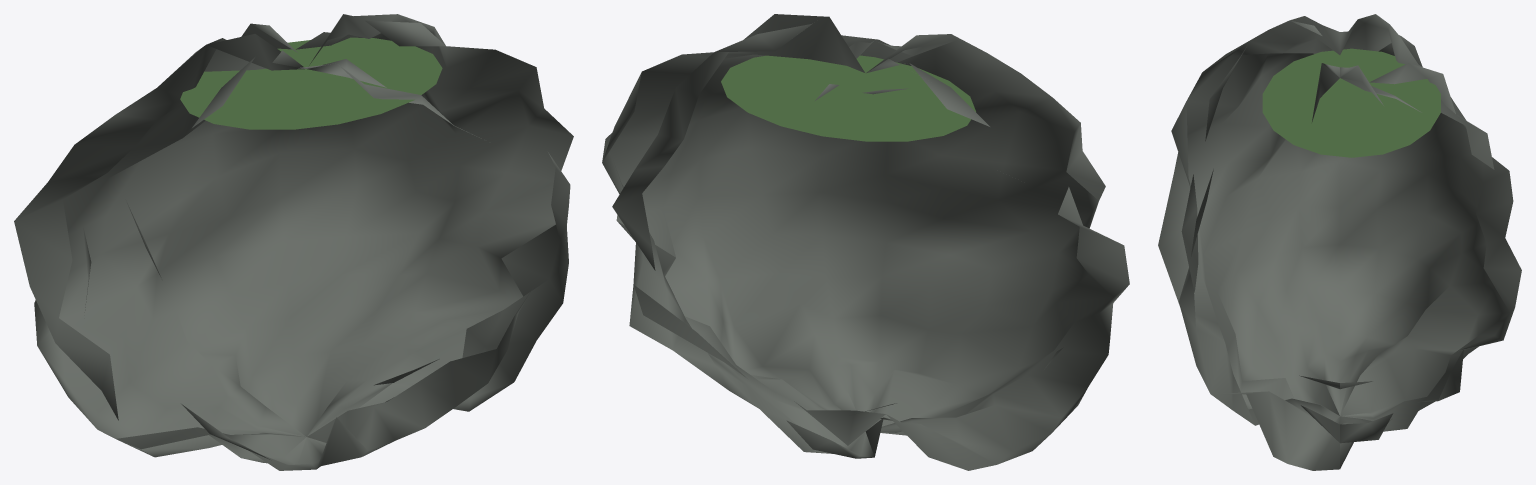
Rendered from rock_4.glb.
3 views of the same model, side by side, from view 1: azimuth 30°, elevation 25°; view 2: azimuth 150°, elevation 25°; view 3: azimuth 270°, elevation 25° (orthographic). The views are drawn at different scales.
Visible parts, largest first — view 1: rock_mesh, rock_moss; view 2: rock_mesh, rock_moss; view 3: rock_mesh, rock_moss.
Boxes of the visible parts, x1=… form: rock_mesh: x1=14, y1=14, x2=573, y2=470; rock_moss: x1=180, y1=37, x2=442, y2=129; rock_mesh: x1=602, y1=14, x2=1129, y2=470; rock_moss: x1=721, y1=55, x2=975, y2=141; rock_mesh: x1=1158, y1=14, x2=1521, y2=470; rock_moss: x1=1262, y1=48, x2=1440, y2=157.
Bounding box in the file's own units: 2.36 × 1.81 × 1.55.
